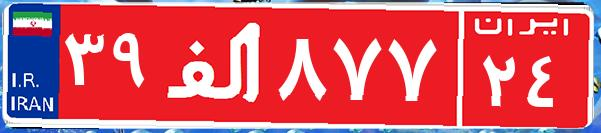2: (475, 38, 525, 113)
3: (57, 26, 110, 107)
4: (525, 38, 570, 115)
7: (385, 28, 445, 110), (330, 28, 385, 110)
8: (273, 28, 330, 110)
9: (110, 28, 158, 105)
الف: (158, 15, 273, 115)
